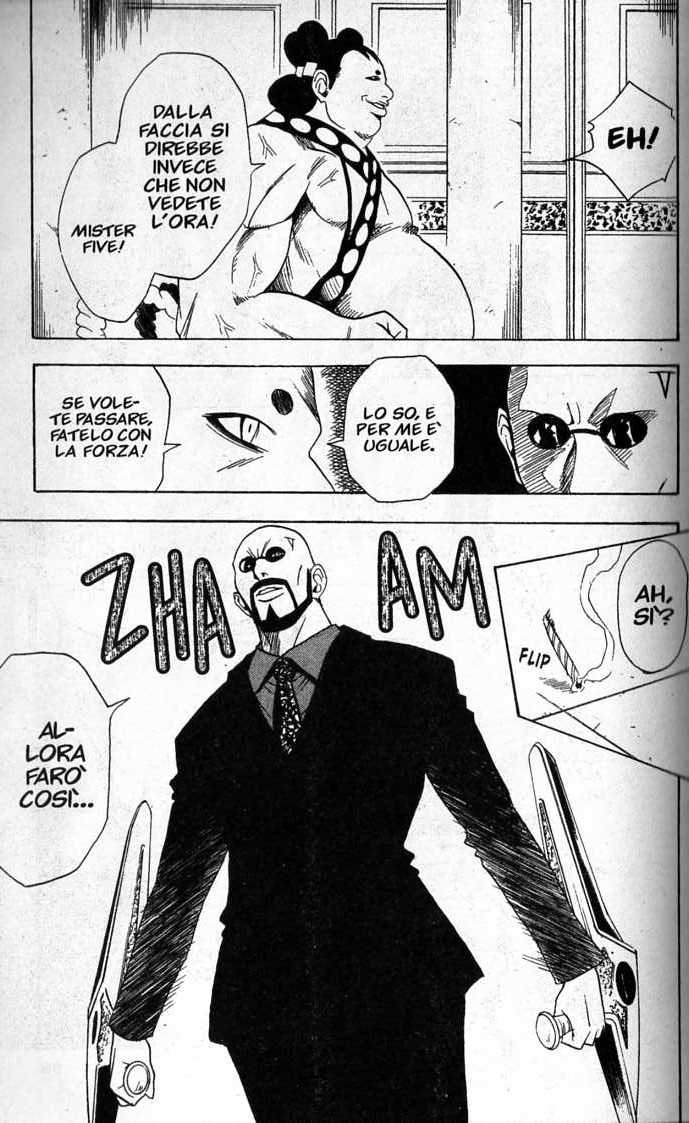Baloon: (57, 50, 262, 324), (1, 652, 145, 886), (323, 356, 454, 502), (36, 366, 179, 492), (560, 78, 678, 206), (617, 543, 689, 684)
Vignetta: (1, 523, 679, 1123), (29, 2, 679, 338), (36, 364, 678, 492), (498, 531, 689, 775)
